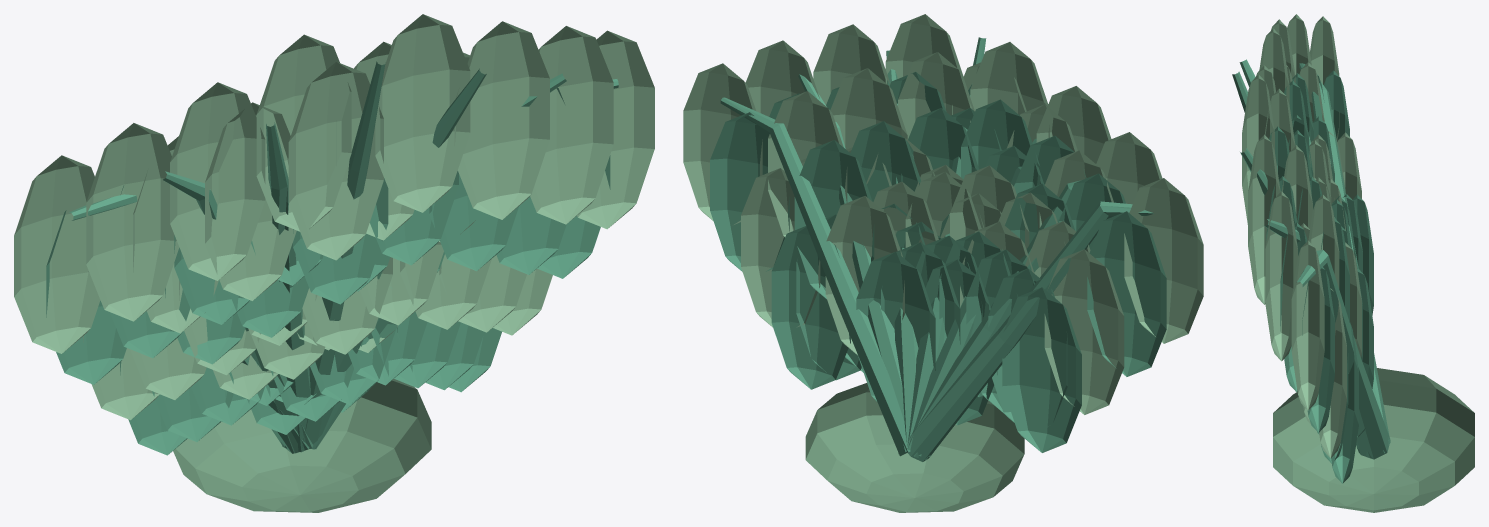
Rendered from nat-fern-a.gltf.
3 views of the same model, side by side, from view 1: azimuth 30°, elevation 25°; view 2: azimuth 150°, elevation 25°; view 3: azimuth 270°, elevation 25° (orthographic). The views are drawn at different scales.
Visible parts, largest first — view 1: fern; view 2: fern; view 3: fern.
Boxes of the visible parts, x1,y1,x2,y2 form: fern: (14,14,654,512); fern: (683,14,1203,512); fern: (1232,14,1474,512).
Bounding box in the file's own units: 1.26 × 0.9874 × 0.4908.
